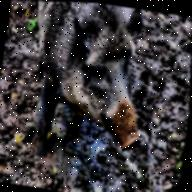boar: (7, 0, 178, 175)
